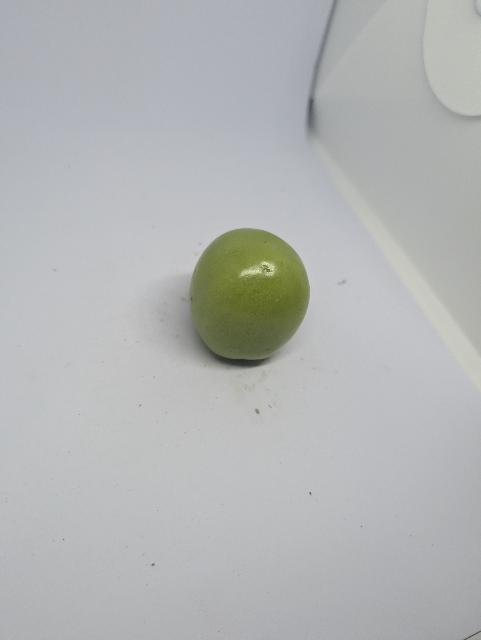green: (173, 214, 329, 376)
